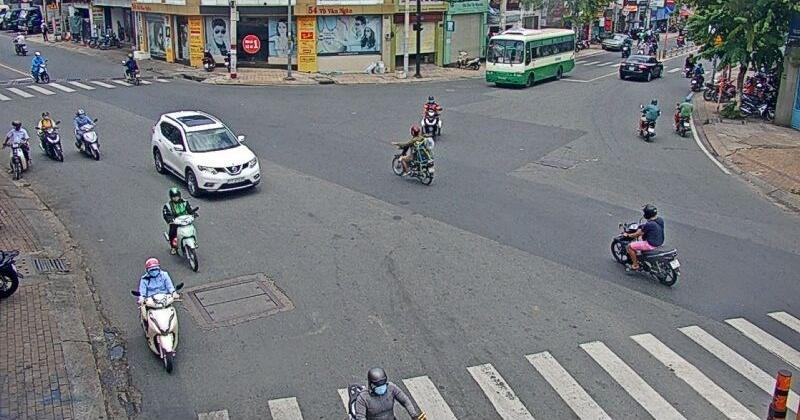xe buyt: (487, 26, 578, 86)
xe hoi: (152, 109, 264, 199)
xe may: (130, 258, 182, 373), (612, 202, 681, 288), (160, 184, 199, 276), (394, 125, 438, 184), (1, 119, 35, 185), (35, 109, 67, 164), (74, 112, 105, 161)
